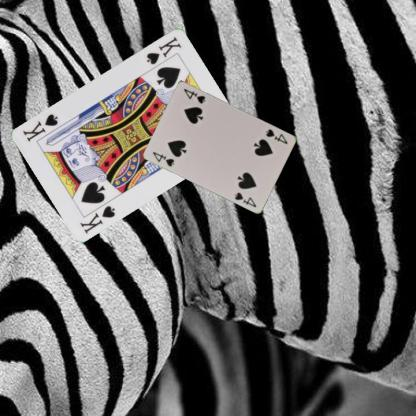4s: (263, 126, 289, 145), (150, 149, 176, 168)
Ks: (77, 202, 117, 235), (144, 33, 182, 66)
